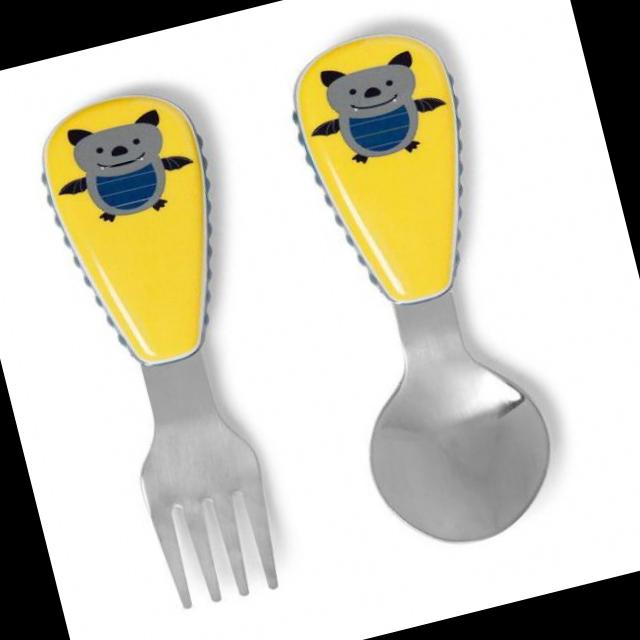fork: (31, 87, 289, 616)
spoon: (254, 0, 578, 573)
